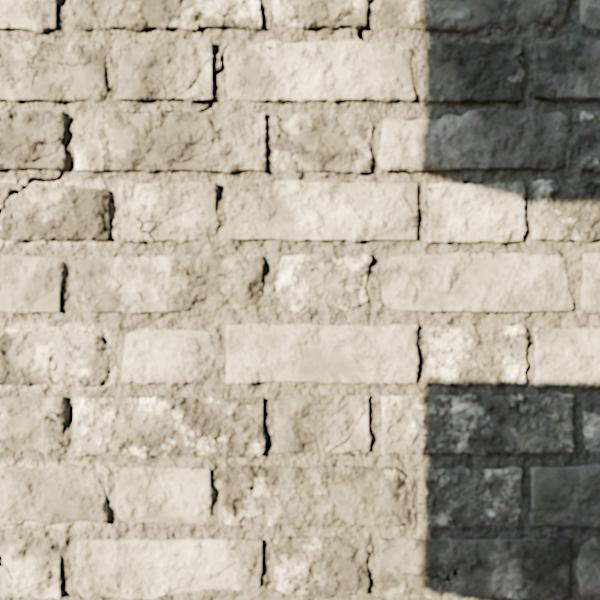brick: (72, 111, 266, 173), (382, 392, 574, 454), (379, 537, 570, 599), (72, 396, 264, 457), (379, 109, 567, 171), (226, 181, 417, 242), (226, 41, 414, 102), (222, 465, 410, 526), (74, 538, 261, 599), (226, 324, 417, 383), (381, 253, 572, 311), (73, 254, 263, 312), (0, 463, 109, 526), (0, 38, 107, 102), (426, 325, 527, 385), (424, 466, 521, 528), (119, 181, 218, 241), (273, 536, 368, 598), (427, 41, 523, 102), (428, 182, 525, 242), (380, 0, 567, 31), (274, 113, 372, 172), (70, 0, 261, 30), (119, 40, 212, 100), (115, 466, 212, 522), (277, 253, 370, 310), (276, 395, 367, 452), (122, 329, 214, 383), (530, 464, 599, 527), (530, 180, 599, 241), (533, 39, 599, 99), (0, 110, 67, 169), (0, 396, 68, 453), (0, 537, 63, 598), (534, 328, 599, 387), (0, 254, 64, 312), (272, 0, 367, 29), (0, 0, 58, 32), (176, 59, 212, 101), (333, 411, 370, 451), (577, 538, 599, 594), (579, 112, 599, 171), (581, 254, 599, 313), (582, 394, 599, 456), (226, 180, 264, 199), (581, 0, 599, 29), (0, 567, 10, 597)
broken_brick: (0, 325, 111, 387), (0, 183, 110, 241), (0, 181, 22, 207)
crack: (0, 169, 64, 218), (150, 54, 211, 100), (224, 179, 278, 223), (197, 44, 231, 113), (133, 206, 195, 241), (233, 466, 282, 510), (0, 554, 41, 599), (7, 136, 67, 165), (328, 408, 367, 452), (30, 407, 66, 435), (274, 113, 296, 149), (210, 0, 236, 27), (549, 328, 560, 363), (306, 427, 320, 453), (250, 8, 260, 26), (336, 448, 365, 454), (513, 49, 524, 64), (398, 122, 407, 139), (356, 29, 366, 42), (67, 117, 75, 130), (261, 42, 274, 50), (185, 95, 199, 101), (534, 51, 542, 60), (506, 95, 521, 99), (534, 326, 541, 334), (427, 184, 433, 192), (367, 0, 375, 6), (129, 111, 143, 114), (164, 110, 174, 113)
